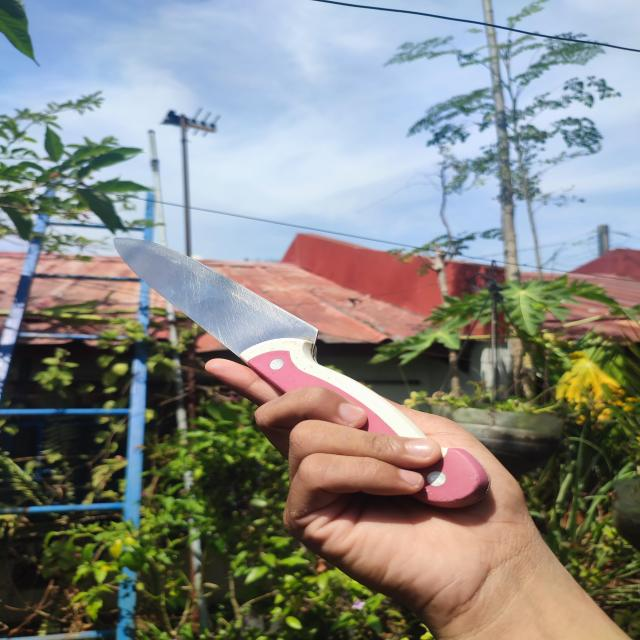knife: (113, 237, 492, 511)
